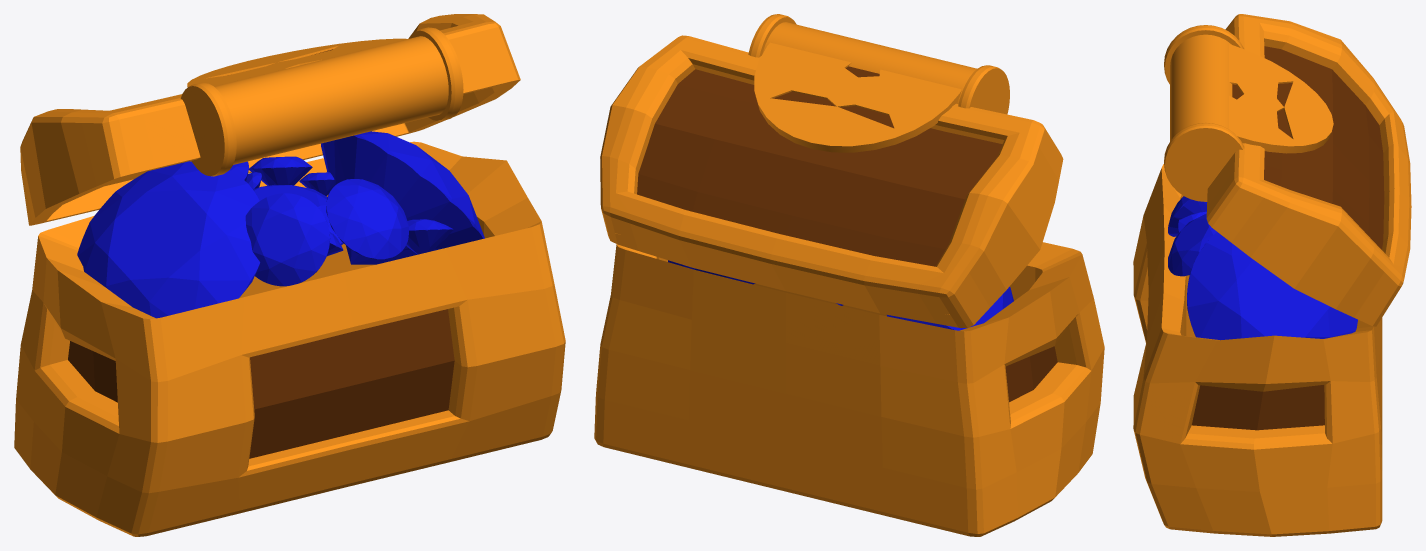
File: chest.fbx
The picture shows the model from 3 angles, left to right: view 1: azimuth 30°, elevation 25°; view 2: azimuth 150°, elevation 25°; view 3: azimuth 270°, elevation 25°; orthographic projection. The views are drawn at different scales.
Parts seen in each view (by area): view 1: chest_down, kilit, chest_upper, diamond.003, diamond.004, diamond.002, diamond.001, face, diamond.005, diamond.007, diamond; view 2: chest_down, chest_upper, face, kilit, diamond.003; view 3: chest_down, chest_upper, diamond.004, kilit, face, diamond.001, diamond.002.
Part boxes in pixels (x1=…): chest_down: x1=14, y1=141, x2=565, y2=536; kilit: x1=180, y1=27, x2=463, y2=176; chest_upper: x1=20, y1=14, x2=520, y2=225; diamond.003: x1=77, y1=161, x2=260, y2=318; diamond.004: x1=321, y1=131, x2=484, y2=264; diamond.002: x1=245, y1=193, x2=330, y2=286; diamond.001: x1=326, y1=179, x2=408, y2=259; face: x1=187, y1=38, x2=407, y2=87; diamond.005: x1=249, y1=156, x2=312, y2=185; diamond.007: x1=406, y1=219, x2=453, y2=254; diamond: x1=253, y1=184, x2=343, y2=245; chest_down: x1=594, y1=242, x2=1104, y2=536; chest_upper: x1=600, y1=35, x2=1063, y2=327; face: x1=754, y1=42, x2=961, y2=152; kilit: x1=748, y1=14, x2=1009, y2=114; diamond.003: x1=887, y1=286, x2=1013, y2=330; chest_down: x1=1133, y1=164, x2=1382, y2=536; chest_upper: x1=1206, y1=14, x2=1411, y2=326; diamond.004: x1=1187, y1=232, x2=1357, y2=340; kilit: x1=1164, y1=25, x2=1244, y2=201; face: x1=1229, y1=44, x2=1333, y2=153; diamond.001: x1=1168, y1=214, x2=1216, y2=276; diamond.002: x1=1168, y1=196, x2=1207, y2=236.
Bounding box in the file's own units: 439 × 380 × 262.
